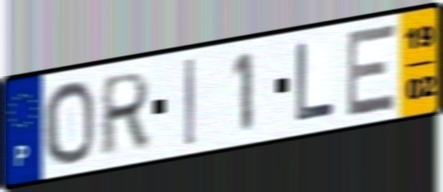1: (230, 49, 257, 134)
E: (344, 20, 399, 121)
I: (182, 55, 197, 149)
L: (293, 40, 337, 127)
O: (41, 78, 97, 167)
R: (97, 68, 154, 161)
